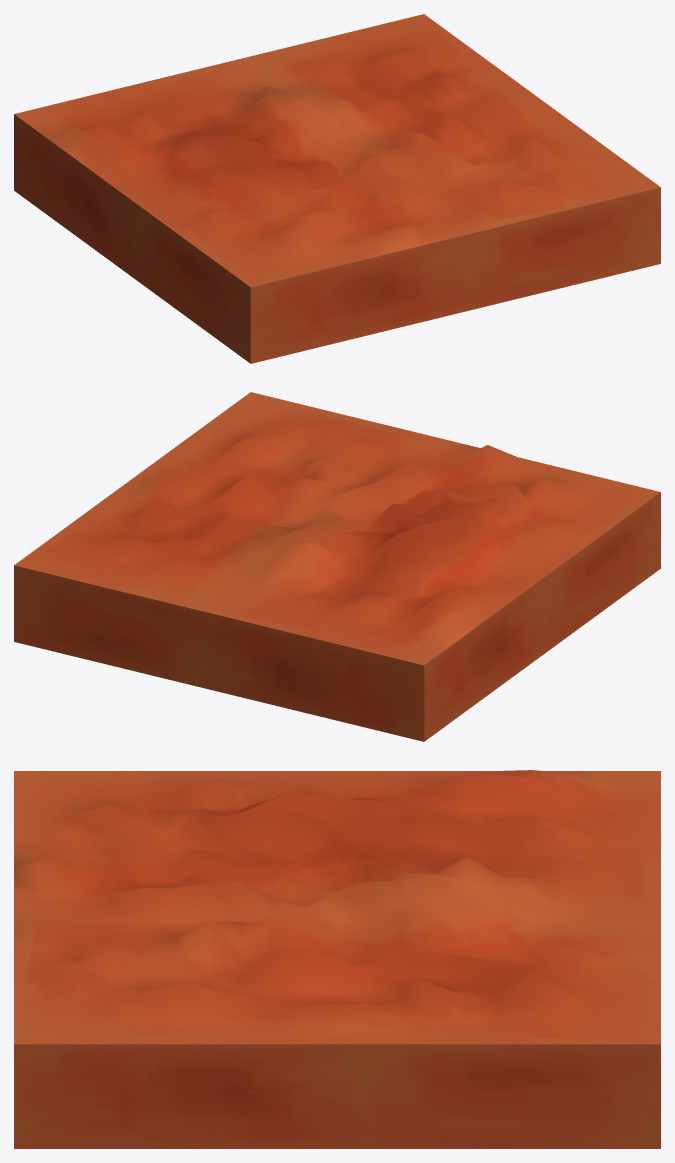
The model's file is Tile_textured.fbx.
3 renders of one model, top to bottom at view 1: azimuth 30°, elevation 25°; view 2: azimuth 150°, elevation 25°; view 3: azimuth 270°, elevation 25°, orthographic. The views are drawn at different scales.
Parts seen in each view (by area): view 1: pCube1; view 2: pCube1; view 3: pCube1.
Boxes of the visible parts, left/top/right/bottom form: pCube1: left=14, top=14, right=660, bottom=363; pCube1: left=14, top=392, right=660, bottom=741; pCube1: left=14, top=770, right=660, bottom=1148.
Bounding box in the file's own units: 3.81 × 0.9071 × 3.81.
